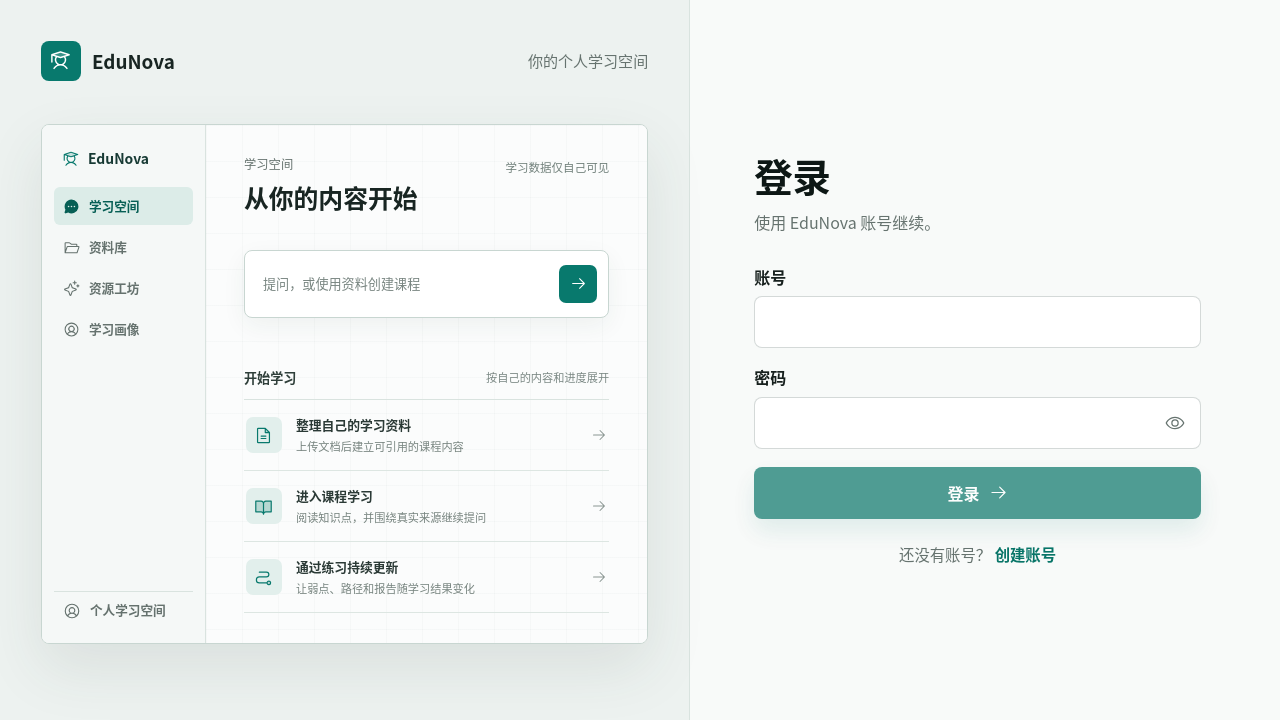
auth entry pages › shows backend login errors without writing a session
Type "student_01" into the field labelled "账号" at (978, 322), box x1=754 y1=296 x2=1201 y2=348
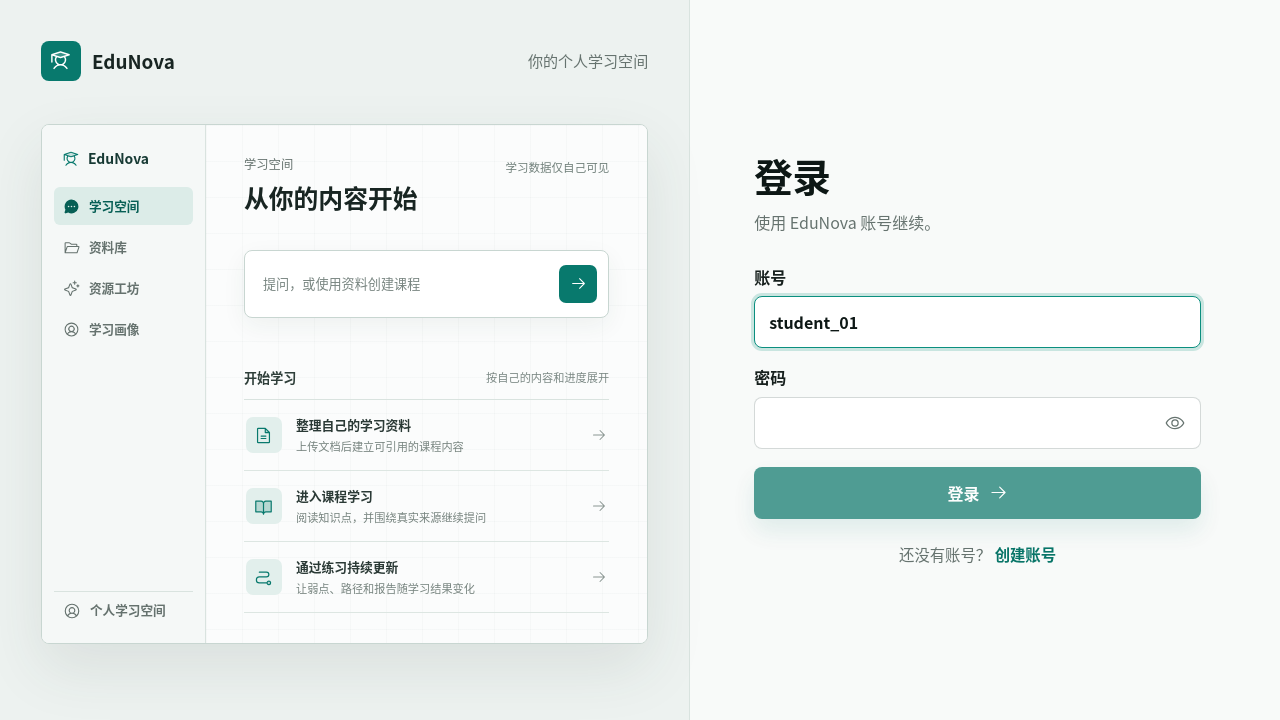
Type "WrongPassword123" into the password field labelled "密码" at (978, 423), box x1=754 y1=397 x2=1201 y2=449
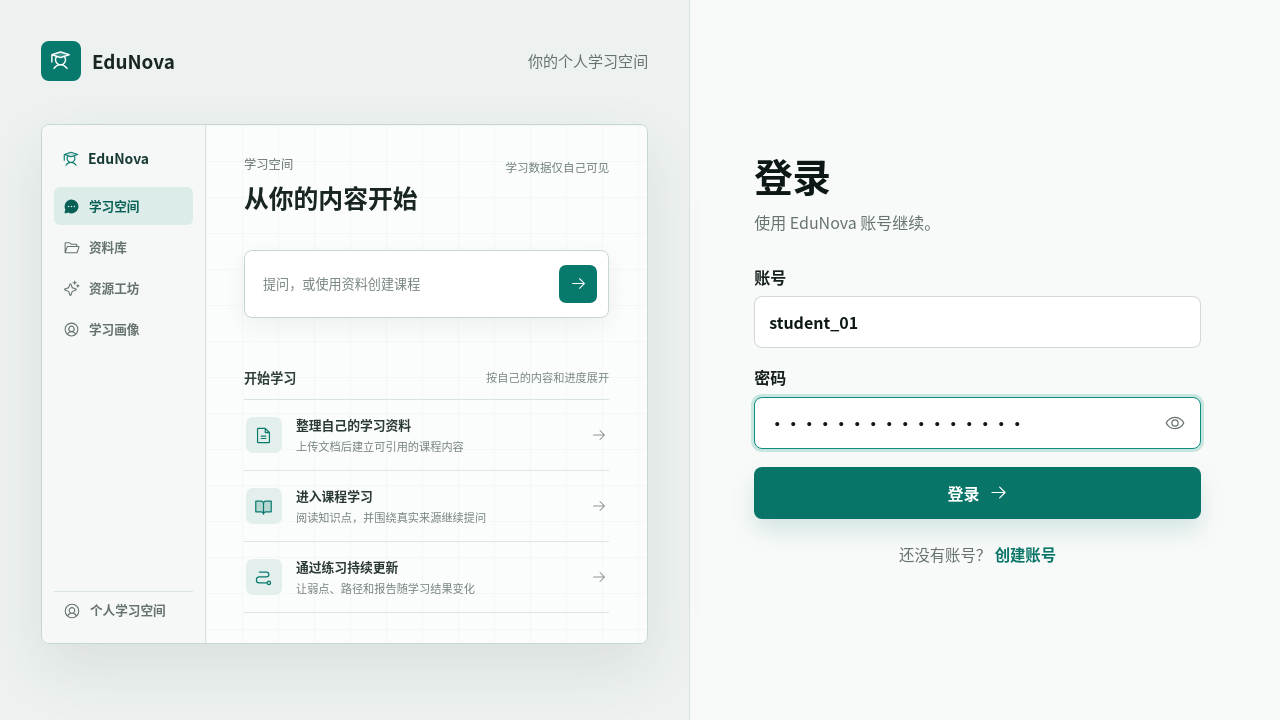
Click the button "登录" at (978, 493), box x1=754 y1=467 x2=1201 y2=519
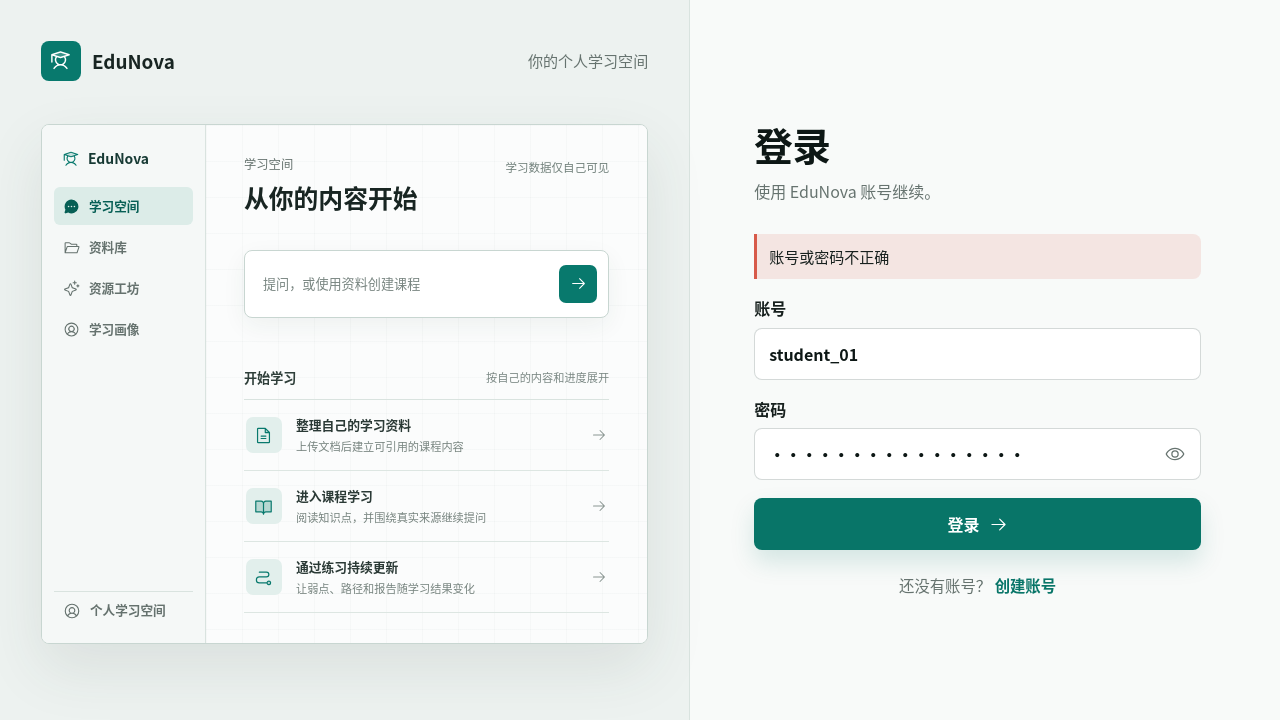
Check: the text "账号或密码不正确" is shown, box x1=754 y1=234 x2=1201 y2=279
